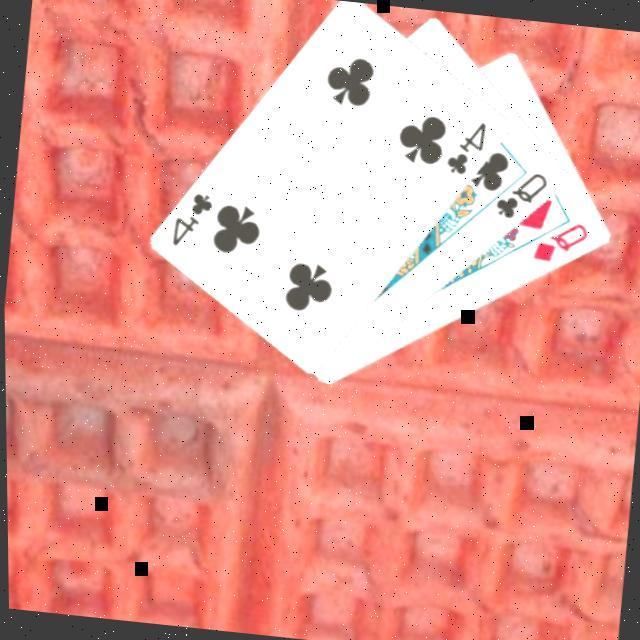4C: (166, 188, 217, 254), (439, 116, 489, 182)
QC: (488, 166, 551, 228)
QD: (527, 216, 592, 270)
